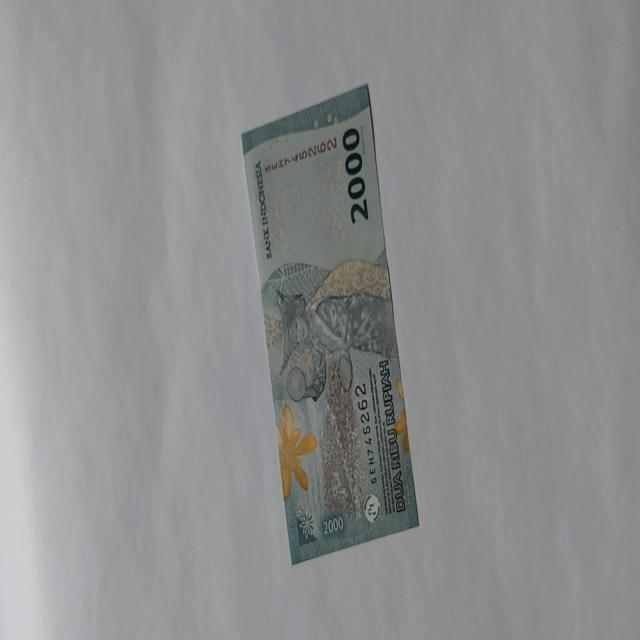dua ribu rupiah: (240, 82, 420, 564), (270, 256, 398, 524)
